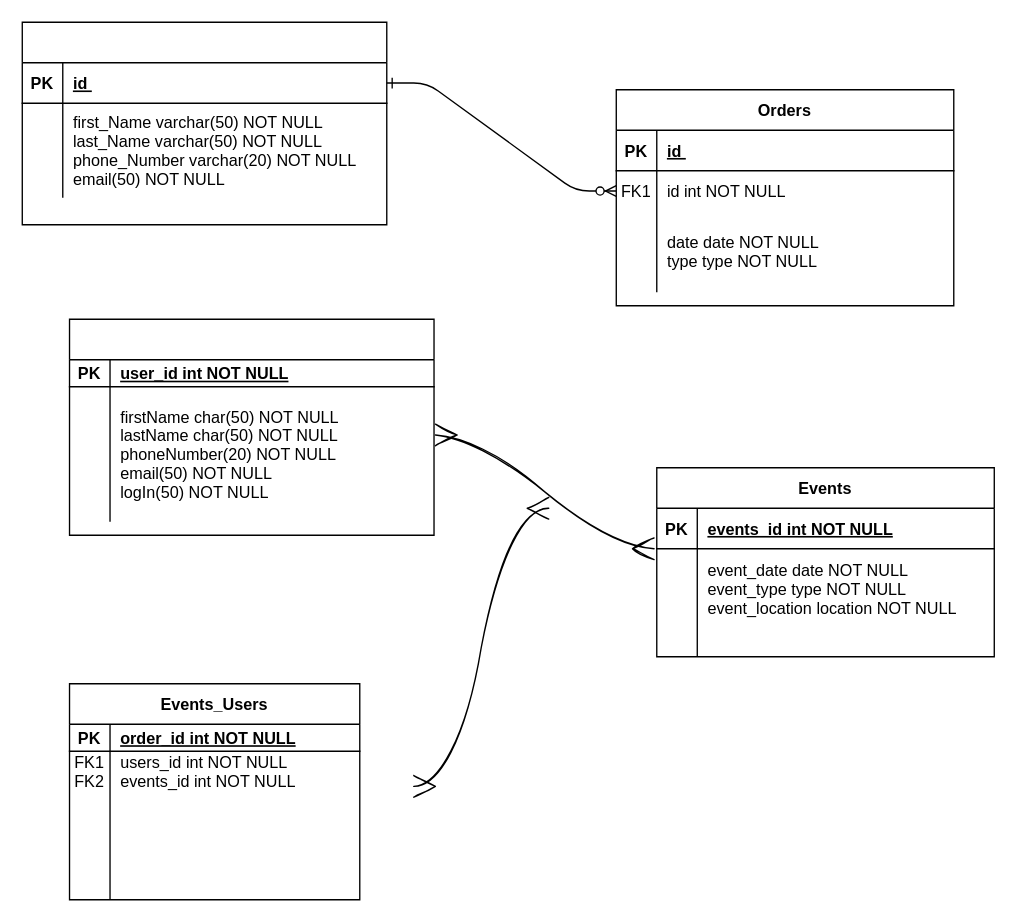
The diagram is 1017 pixels wide and 922 high, and some of its shapes have lost their labels. The shapes that lost their labels are listed below. From the top down, each one's box as (x1, y1, x2, y2) in pixels, then its label:
(21, 21, 387, 225): Customers
(68, 318, 434, 535): Users
